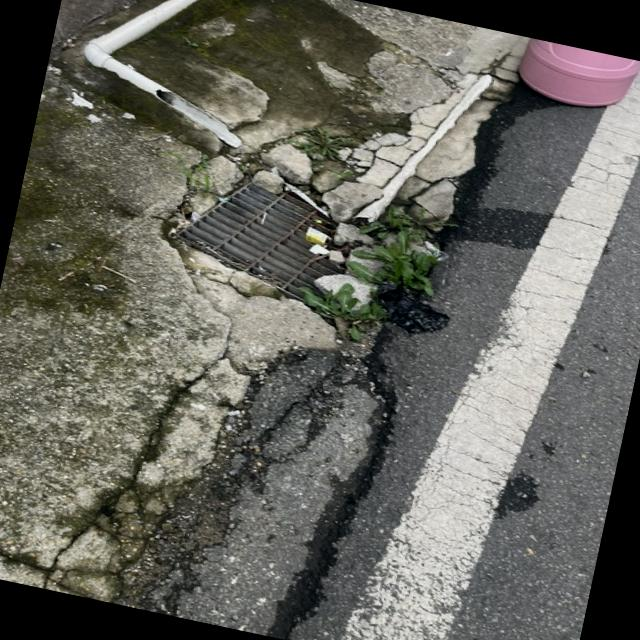drain_area: (184, 185, 344, 298)
drain_full: (177, 174, 395, 317)
